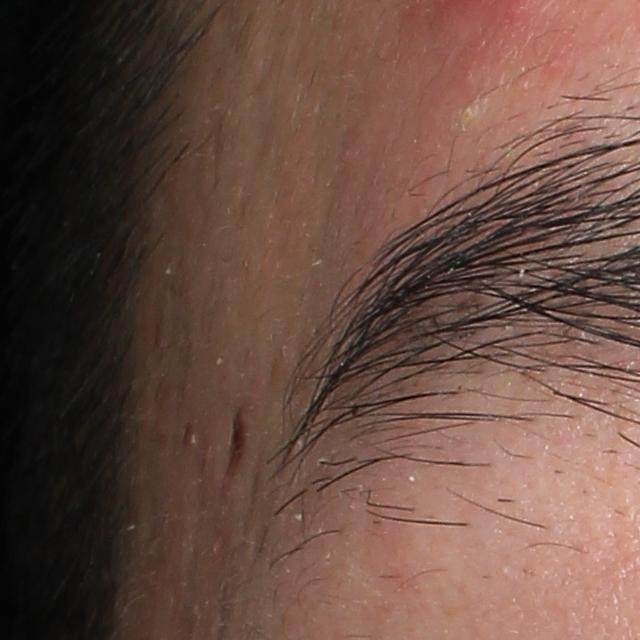nevus: (218, 399, 254, 489)
